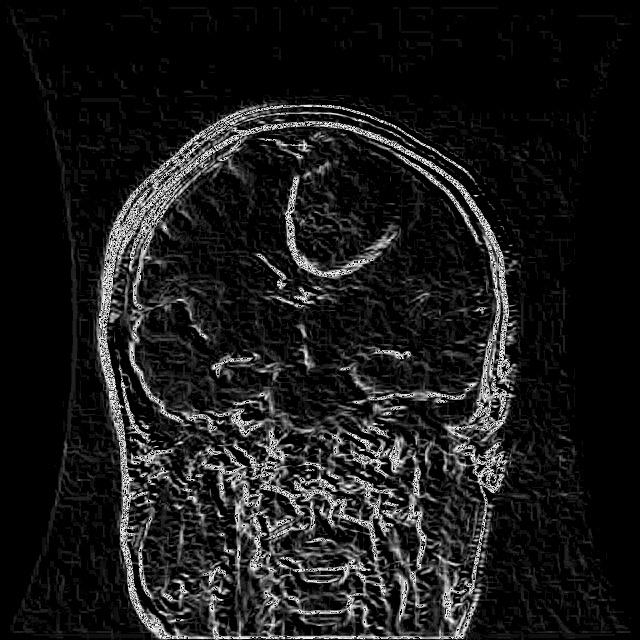Brain-Tumor: (278, 149, 415, 289)
